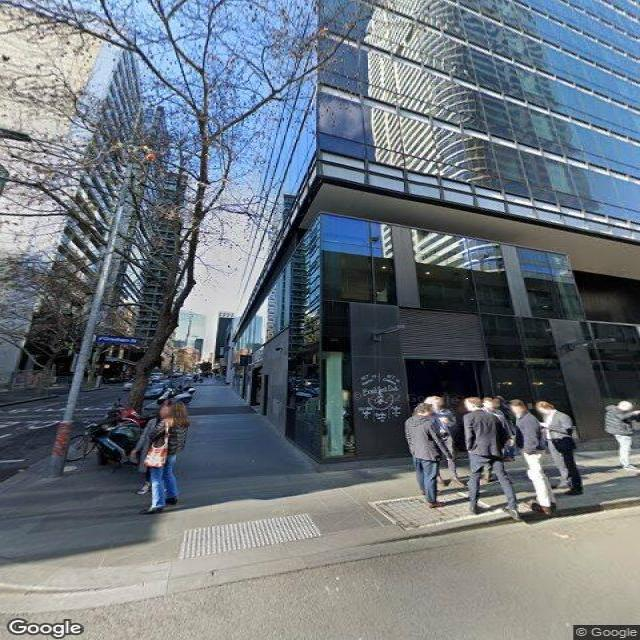steel-pole: (49, 157, 132, 479)
streetlight: (0, 124, 134, 166)
